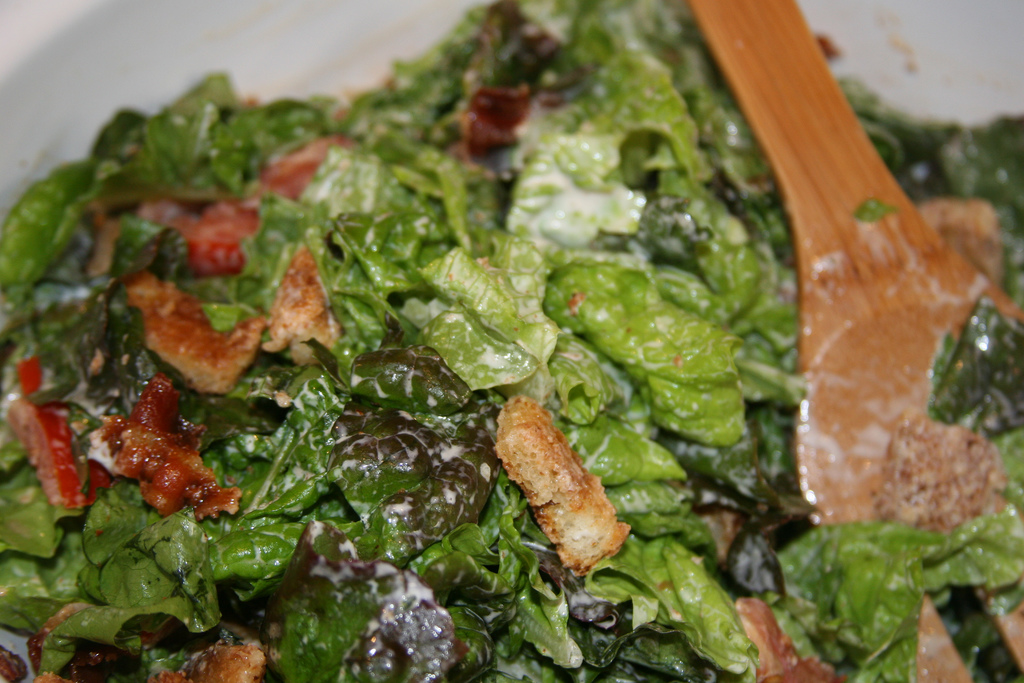chopped lettuce: (78, 289, 358, 671), (565, 89, 768, 471), (352, 238, 583, 471)
